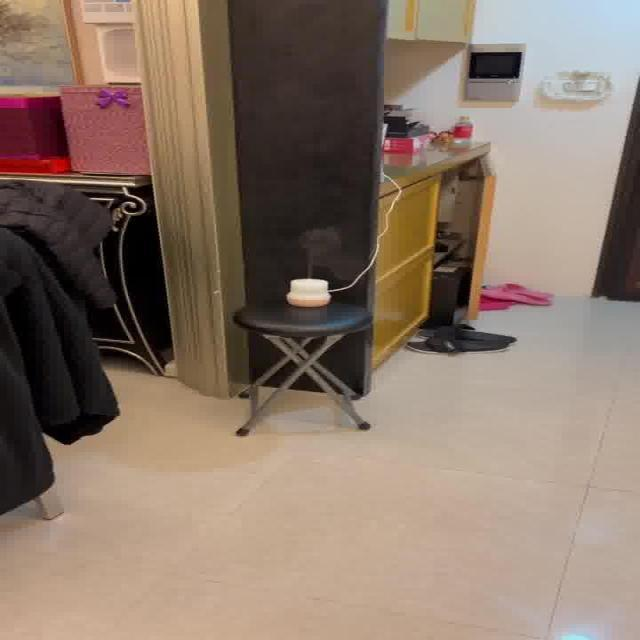fire: (294, 224, 354, 276)
